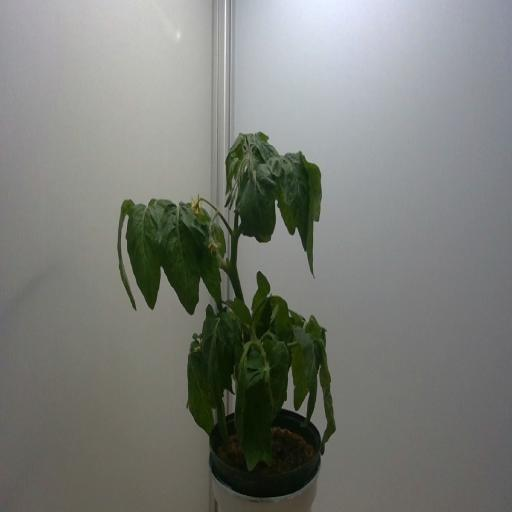Tomato-Leaves-Cupboard-: (156, 192, 206, 320), (190, 195, 232, 313), (264, 152, 312, 245), (124, 198, 162, 312), (246, 346, 278, 478), (183, 332, 217, 448), (315, 331, 343, 462), (234, 169, 278, 250), (300, 152, 326, 280), (115, 194, 138, 317), (201, 304, 235, 381), (290, 320, 315, 413), (208, 374, 232, 454), (258, 291, 292, 340), (223, 126, 246, 195), (248, 259, 272, 323), (306, 308, 327, 348), (251, 127, 278, 158), (286, 296, 304, 333)
